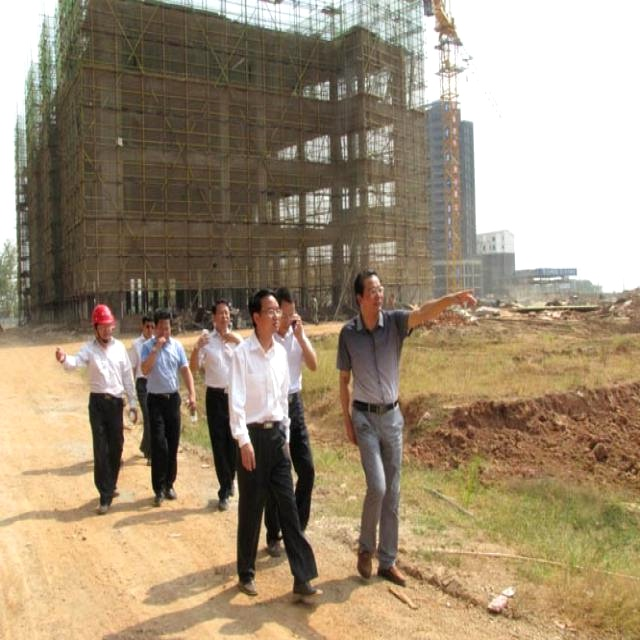Sin_Casco_Mascarrilla: (249, 288, 279, 343), (355, 270, 384, 321)
Sin_Chaleco: (337, 316, 403, 429), (229, 341, 288, 447)
